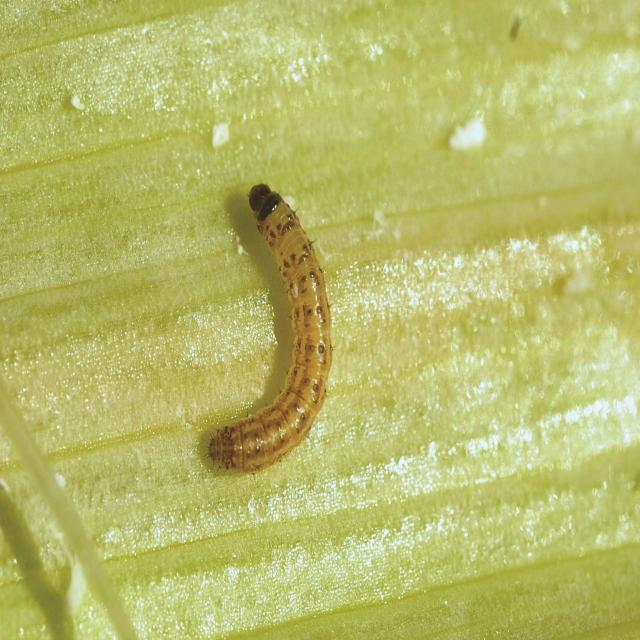cornborer-Larva-: (202, 175, 346, 487)
